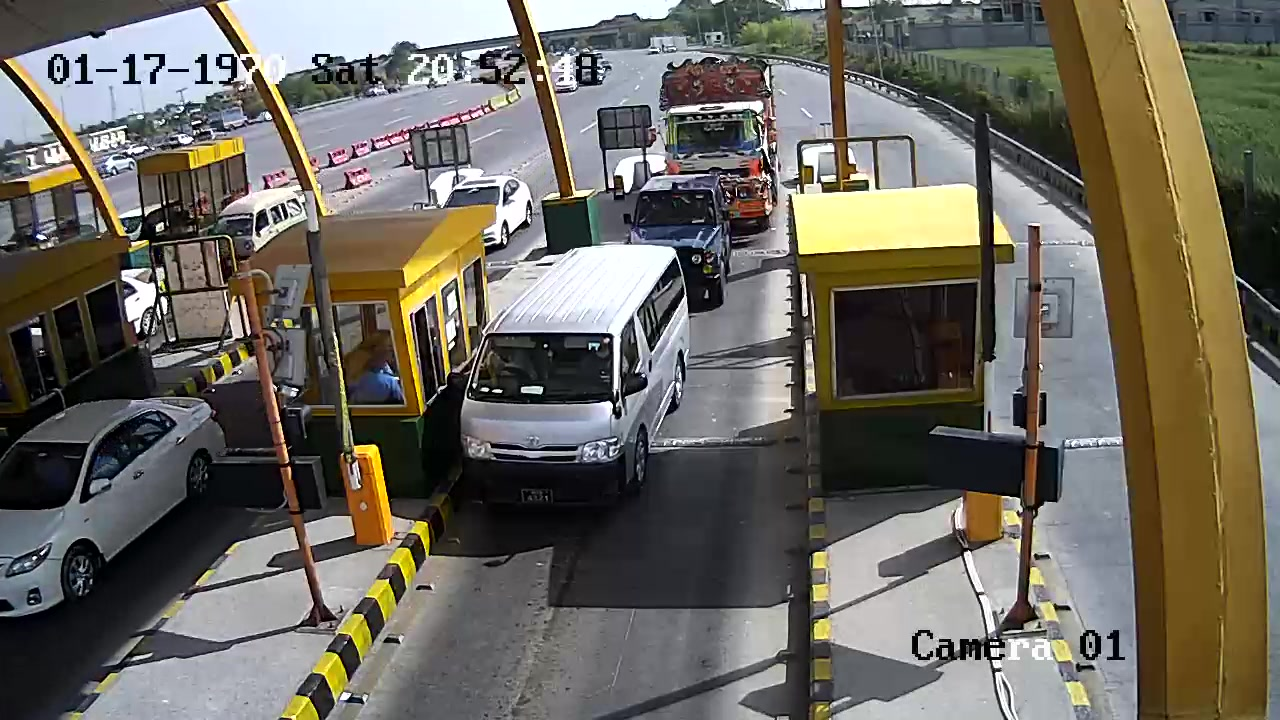F3: (461, 243, 682, 510)
